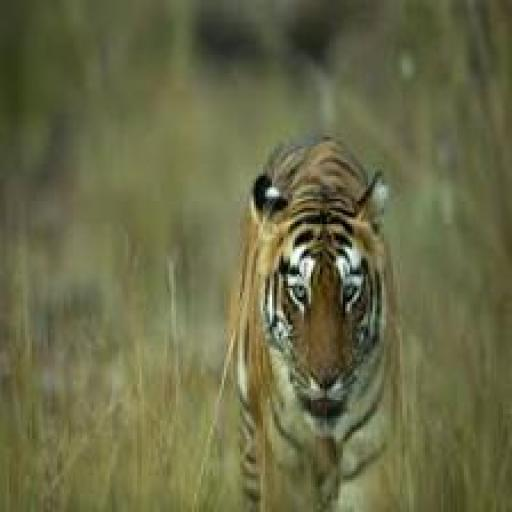Tiger: (226, 135, 409, 512)
